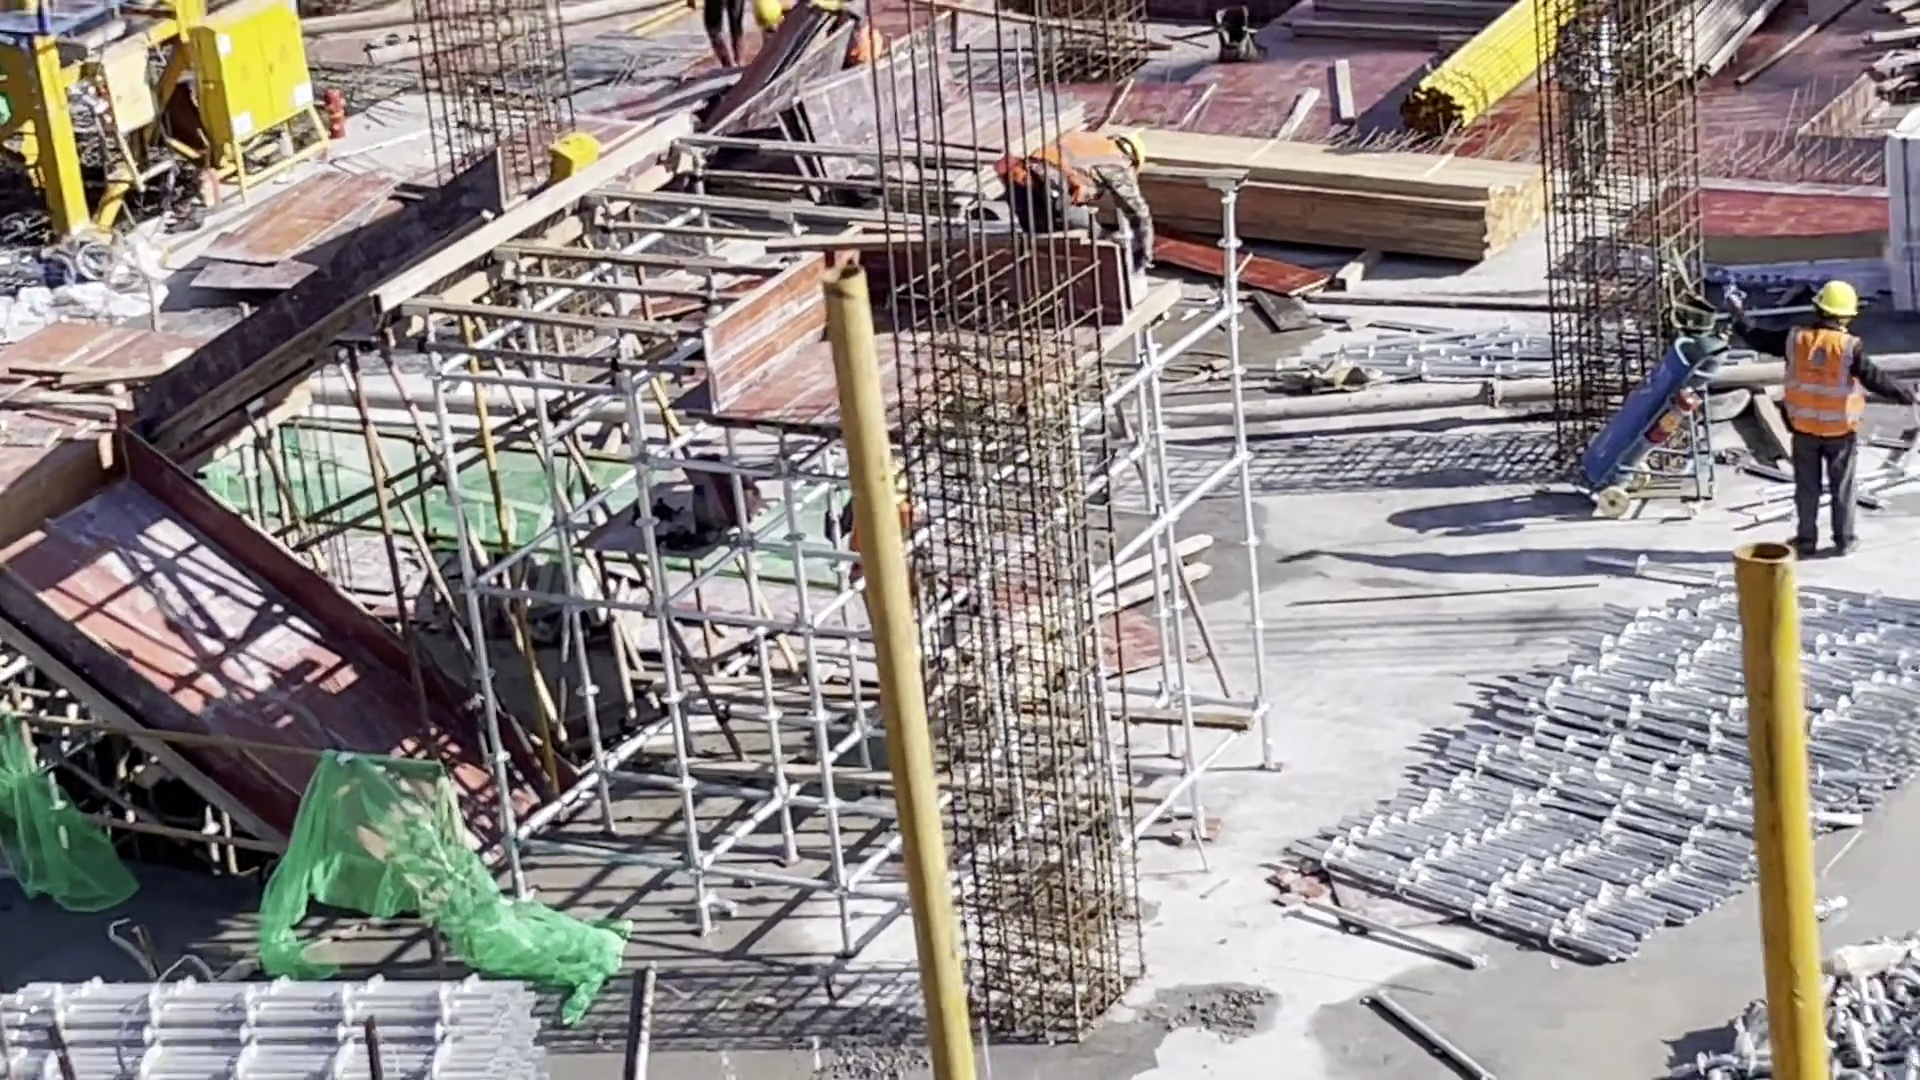ebox: (188, 3, 331, 201)
helmet: (1810, 279, 1861, 321), (1117, 131, 1147, 165)
person: (1770, 276, 1918, 572), (1003, 130, 1149, 264), (693, 2, 756, 65)
scaffold: (1280, 561, 1920, 968), (7, 965, 546, 1080)
vest: (1785, 321, 1865, 435), (1011, 128, 1120, 210)
wood: (1137, 131, 1558, 260)
